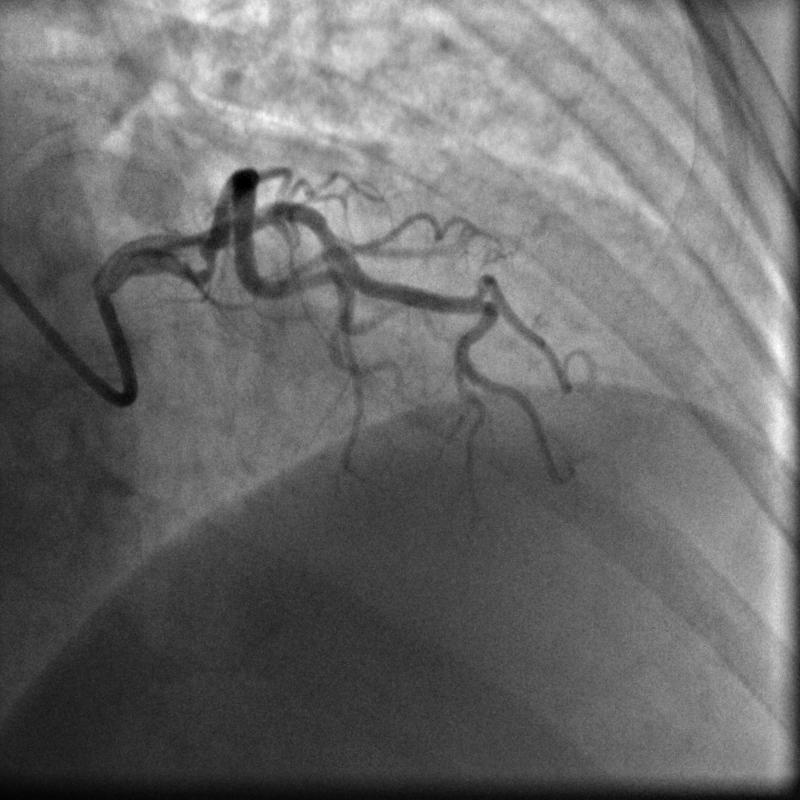Stenosis: (189, 240, 222, 283)
